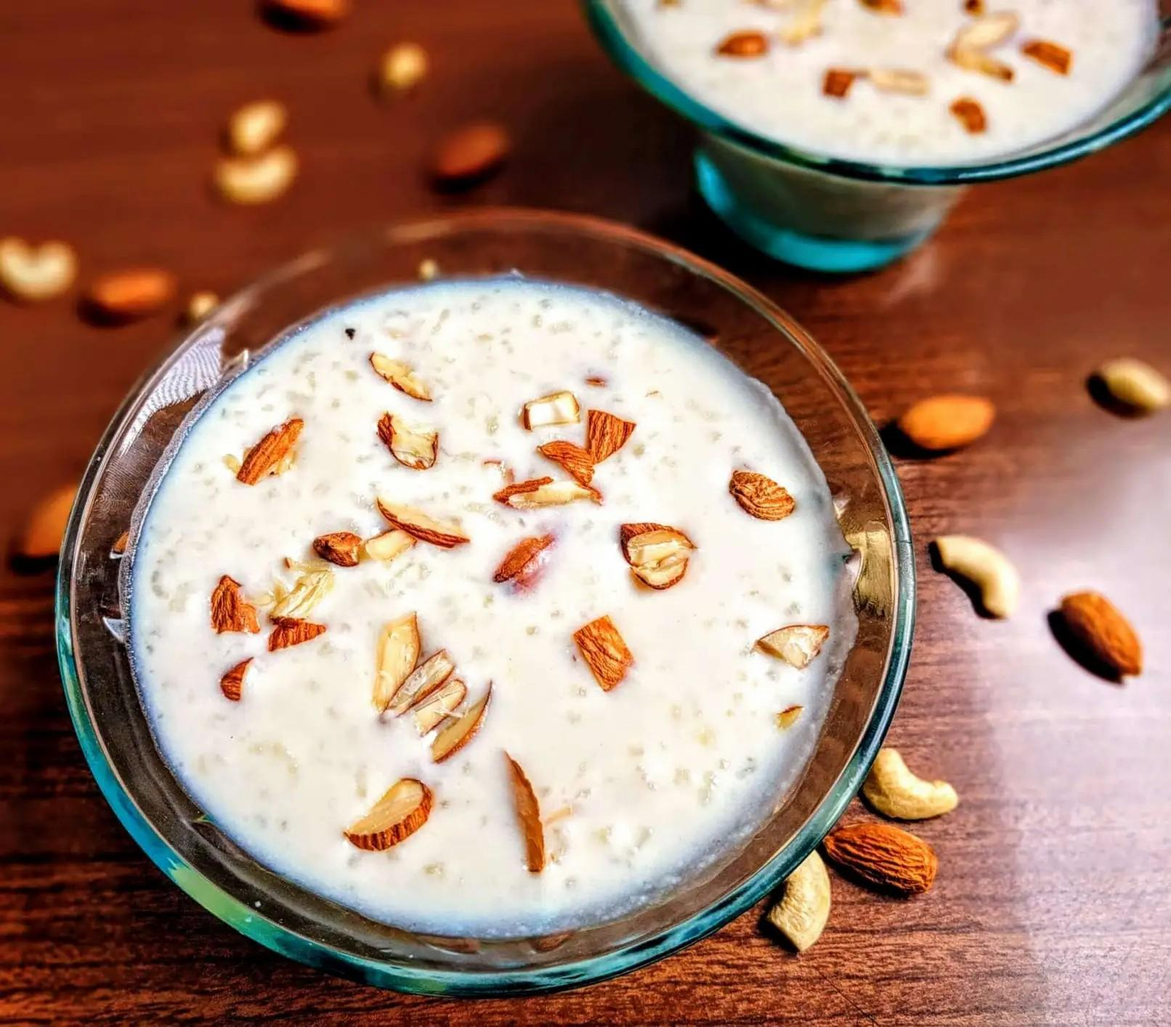Kheer: (144, 284, 841, 927), (647, 0, 1156, 159)
